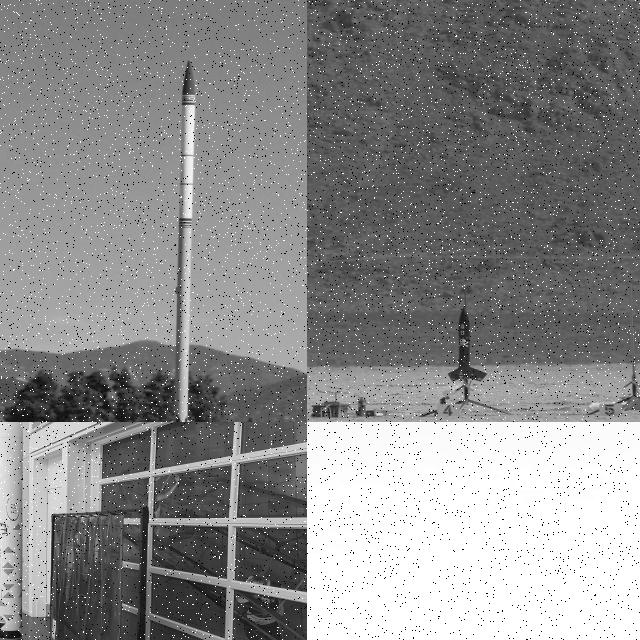Rocket: (153, 59, 208, 422), (447, 306, 488, 382)
